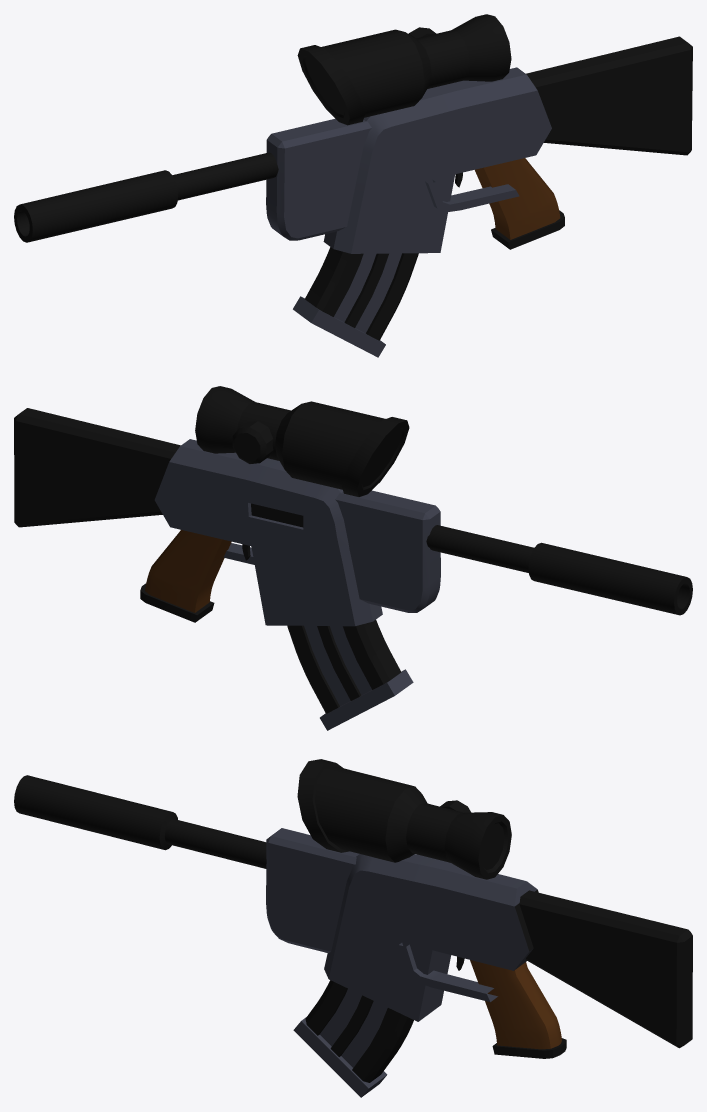
File: Sniper_2.obj
3 views of the same model, one above another, from view 1: azimuth 30°, elevation 25°; view 2: azimuth 150°, elevation 25°; view 3: azimuth 330°, elevation 25° (orthographic).
Parts seen in each view (by area): view 1: Sniper_2_Cube.282; view 2: Sniper_2_Cube.282; view 3: Sniper_2_Cube.282.
Part boxes in pixels (box(x1,y1,x2,y2)): Sniper_2_Cube.282: box(14, 14, 692, 357); Sniper_2_Cube.282: box(14, 386, 692, 730); Sniper_2_Cube.282: box(14, 759, 692, 1097).
Bounding box in the file's own units: 1.74 × 0.7852 × 0.194.
